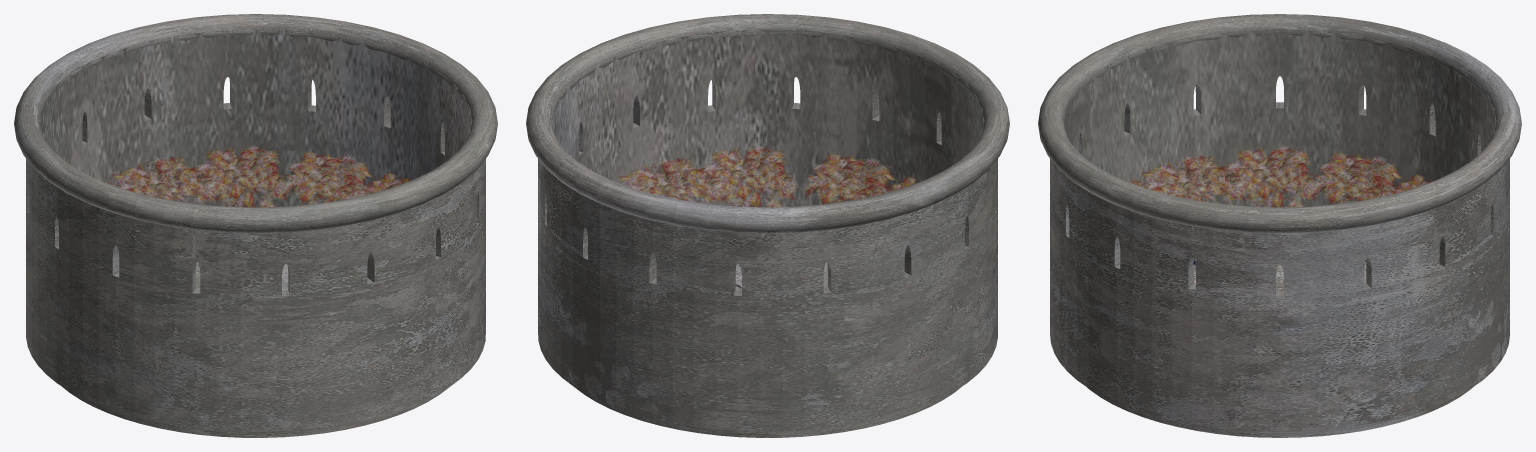
File: CV_Heart_color_2.glb
3 renders of one model, left to right at view 1: azimuth 30°, elevation 25°; view 2: azimuth 150°, elevation 25°; view 3: azimuth 270°, elevation 25°, orthographic.
Parts seen in each view (by area): view 1: Parete, Torus, Tree, Pavimento; view 2: Parete, Torus, Tree, Pavimento; view 3: Parete, Torus, Tree, Pavimento.
Part boxes in pixels (<box>): Parete: <box>26,29,485,431</box>; Torus: <box>14,14,497,233</box>; Tree: <box>105,145,411,287</box>; Pavimento: <box>63,262,449,437</box>; Parete: <box>538,29,997,431</box>; Torus: <box>526,14,1009,233</box>; Tree: <box>619,145,920,287</box>; Pavimento: <box>574,262,960,437</box>; Parete: <box>1050,29,1509,431</box>; Torus: <box>1038,14,1521,233</box>; Tree: <box>1129,145,1434,290</box>; Pavimento: <box>1087,262,1472,437</box>.
Size of the model in its own units: 8.18 by 4.38 by 8.18.
Materials: 3 (2 with a texture image).
